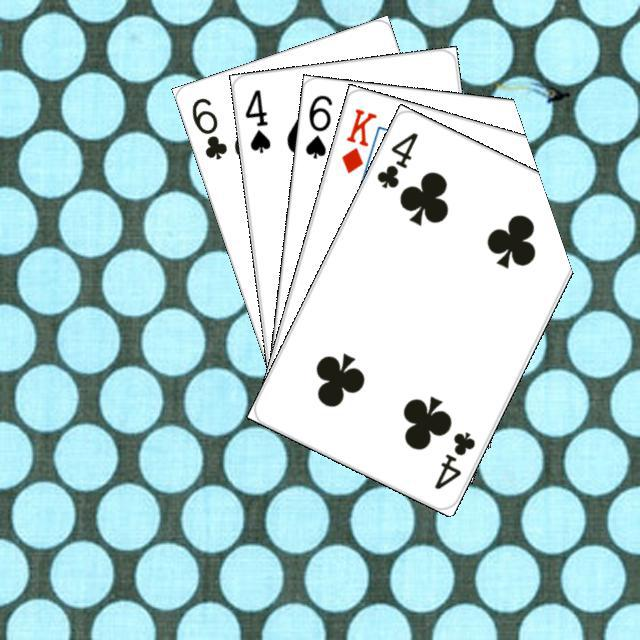4c: (371, 127, 420, 191), (429, 427, 477, 491)
4s: (239, 84, 273, 155)
6c: (186, 92, 229, 162)
6s: (300, 90, 334, 160)
Kd: (336, 103, 379, 175)
